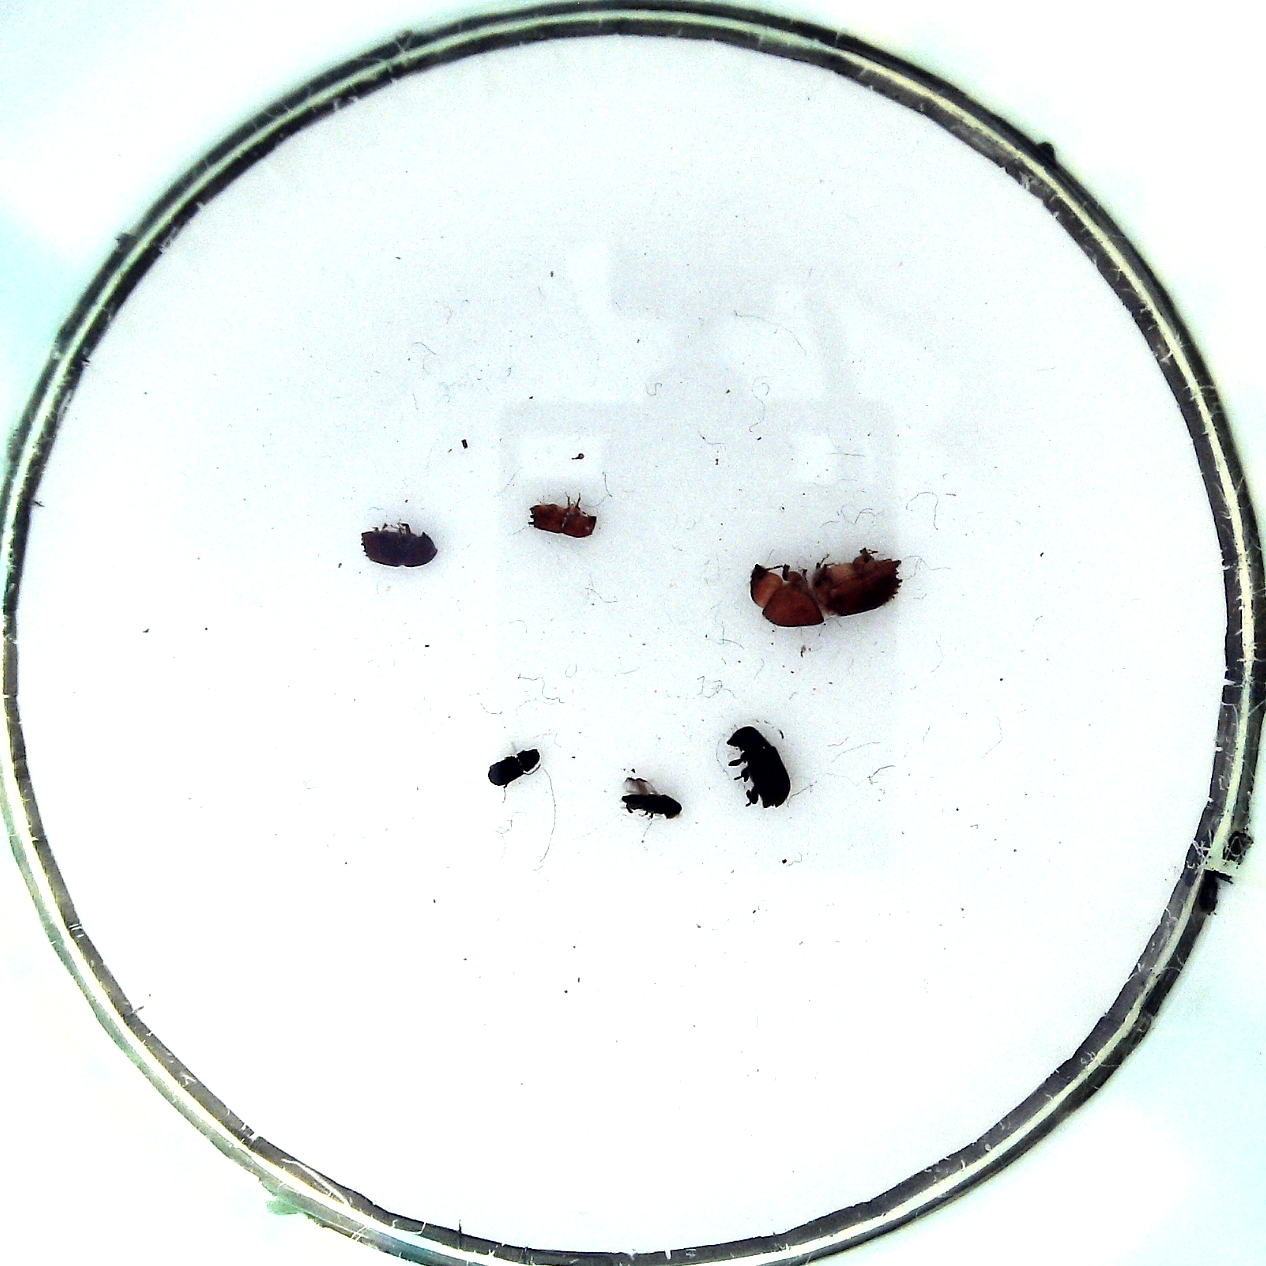Boerner: (749, 556, 903, 627)
acuminatus: (488, 748, 541, 786), (620, 792, 682, 821)
armandi: (726, 726, 790, 808)
coleoptera: (527, 503, 597, 539)
linnaeus: (359, 529, 438, 567)
